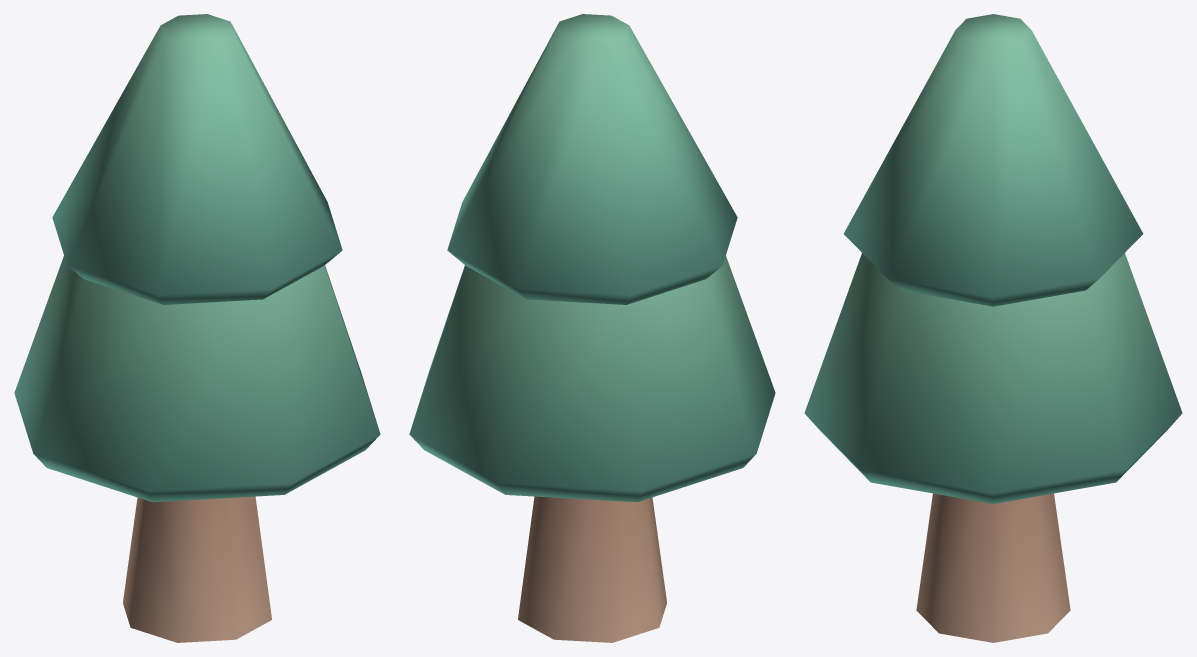
File: toy_tree.glb
3 views of the same model, side by side, from view 1: azimuth 30°, elevation 25°; view 2: azimuth 150°, elevation 25°; view 3: azimuth 270°, elevation 25° (orthographic).
Visible parts, largest first — view 1: toy_tree; view 2: toy_tree; view 3: toy_tree.
Boxes of the visible parts, left/top/right/bottom form: toy_tree: left=14, top=14, right=380, bottom=642; toy_tree: left=409, top=14, right=775, bottom=642; toy_tree: left=804, top=14, right=1182, bottom=642.
Size of the model in its own units: 28.35 by 48 by 28.35.
